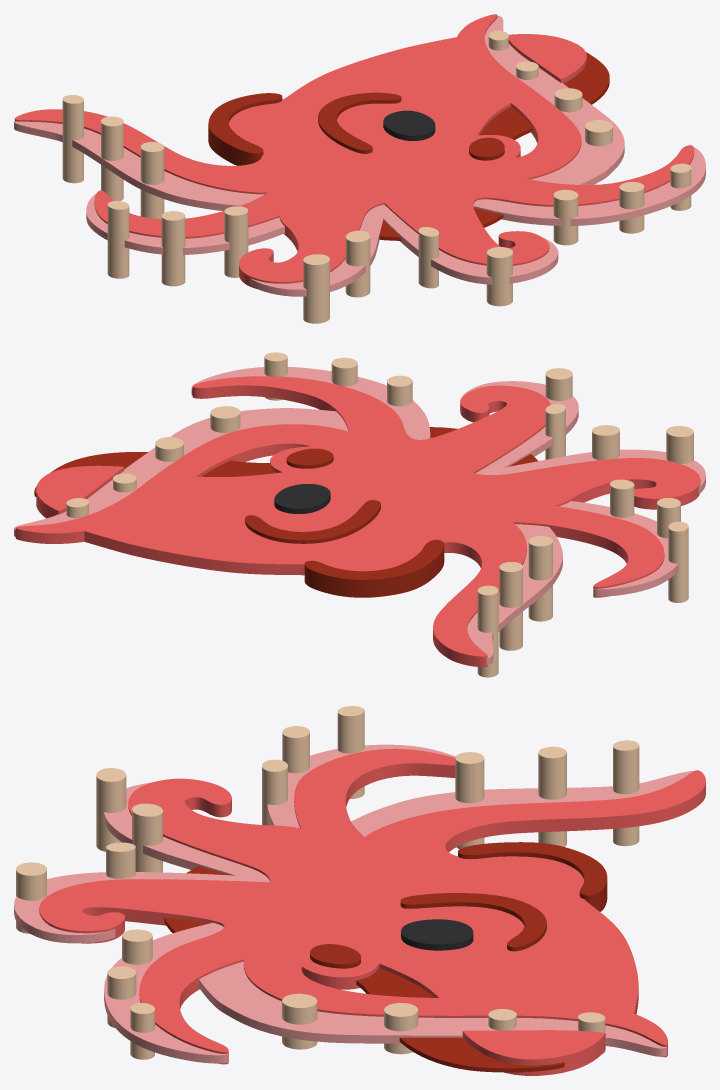
Rendered from emoji_u1f419.glb.
3 views of the same model, one above another, from view 1: azimuth 30°, elevation 25°; view 2: azimuth 150°, elevation 25°; view 3: azimuth 270°, elevation 25° (orthographic). The views are drawn at different scales.
Visible parts, largest first — view 1: emoji_u1f419; view 2: emoji_u1f419; view 3: emoji_u1f419.
Part boxes in pixels (x1,y1,x2,y2): emoji_u1f419: [14, 14, 705, 323]; emoji_u1f419: [14, 352, 705, 677]; emoji_u1f419: [14, 706, 705, 1075].
Size of the model in its own units: 0.0334 by 0.0046 by 0.0302.
